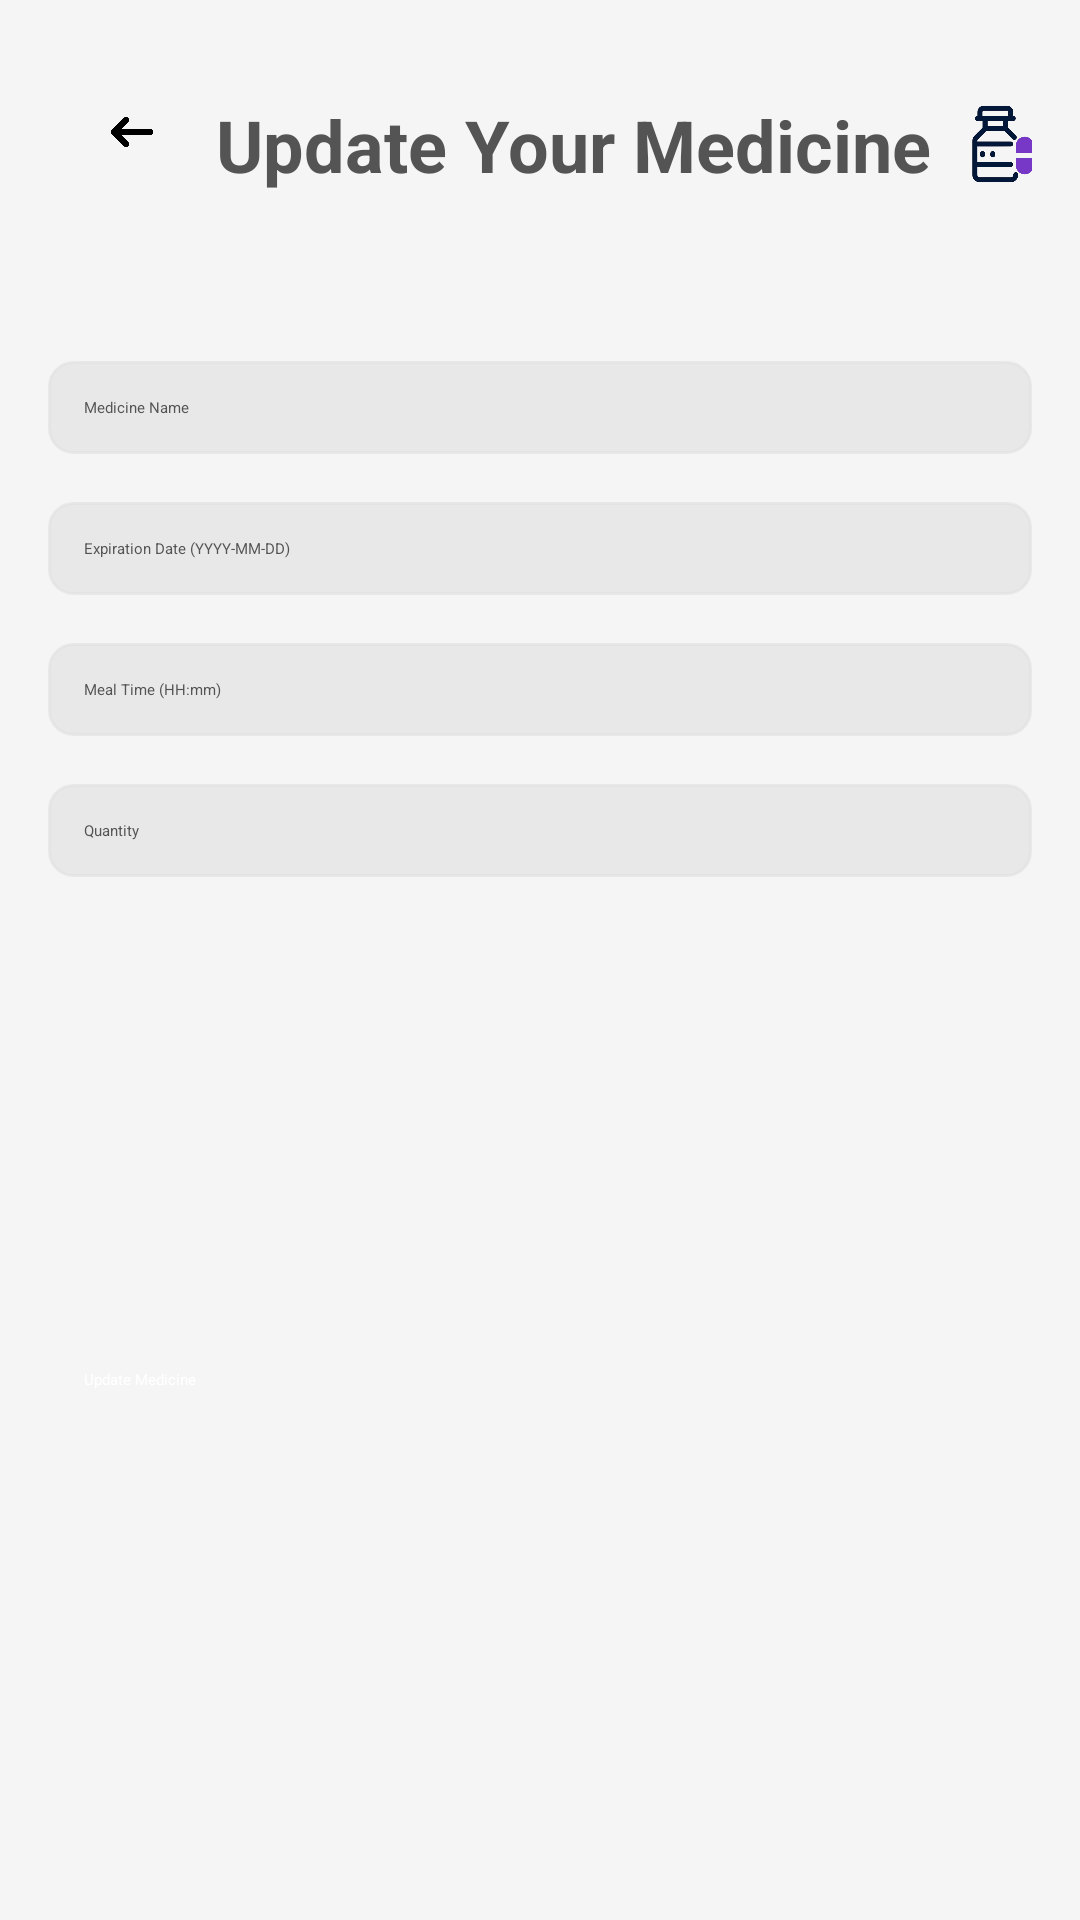

Where icons sit on this 1080px×1920px app screen, as bbox(x1, y1, x2, y2):
Back to Previous Screen: bbox(111, 117, 153, 147)
